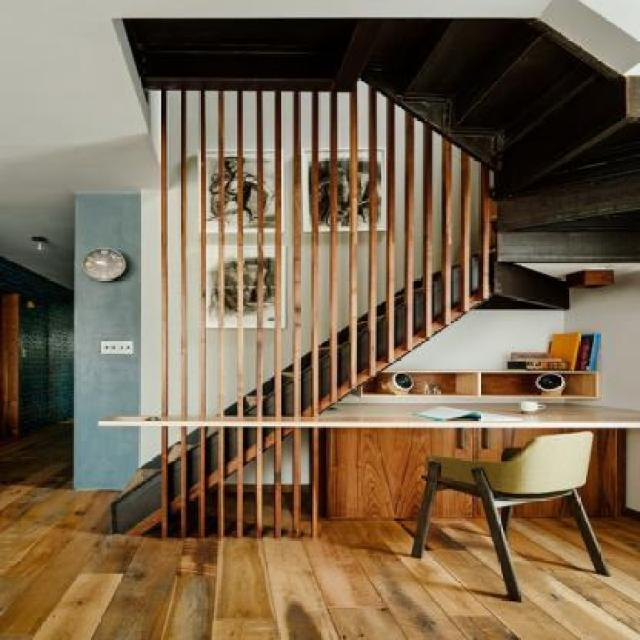stair: (95, 110, 548, 536)
